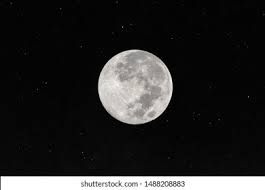moon: (86, 49, 188, 128)
